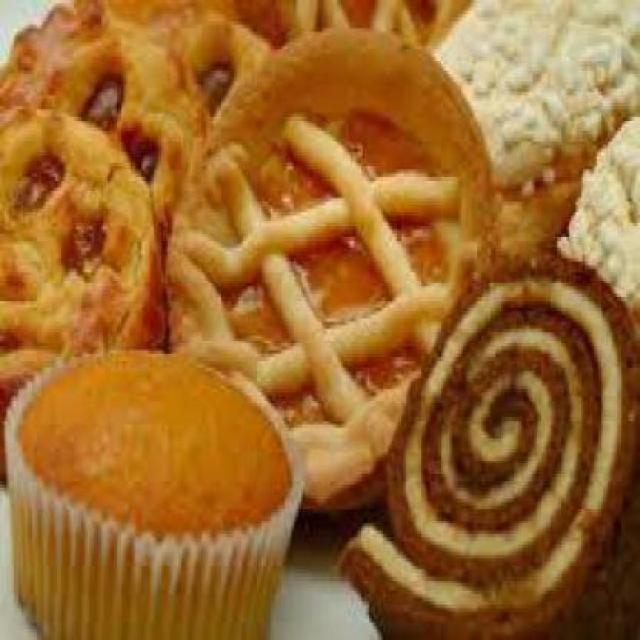Merendine packaged: (160, 21, 505, 527), (330, 248, 638, 637), (2, 346, 301, 637)
